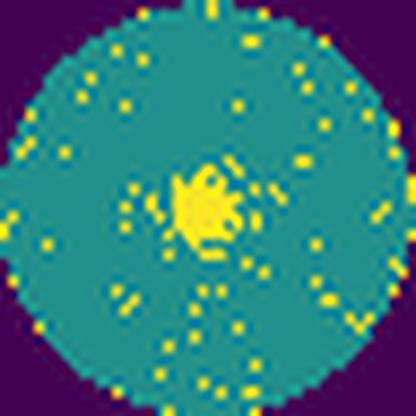Center: (172, 165, 250, 263)
